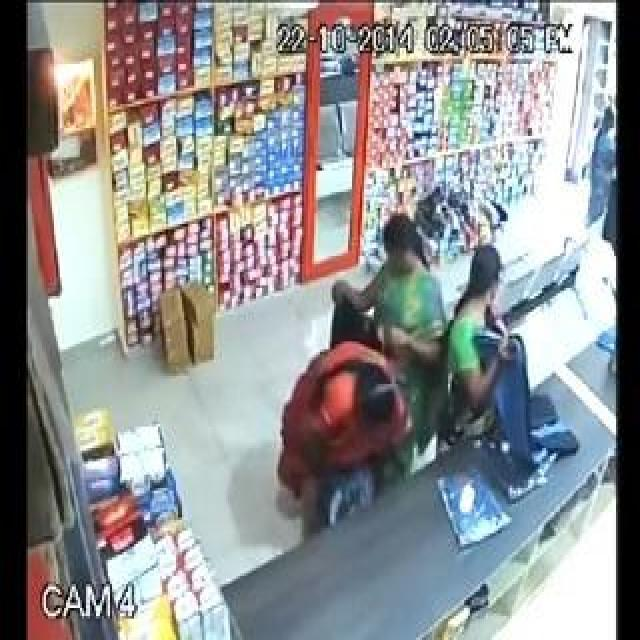Shoplifting: (270, 325, 438, 530)
